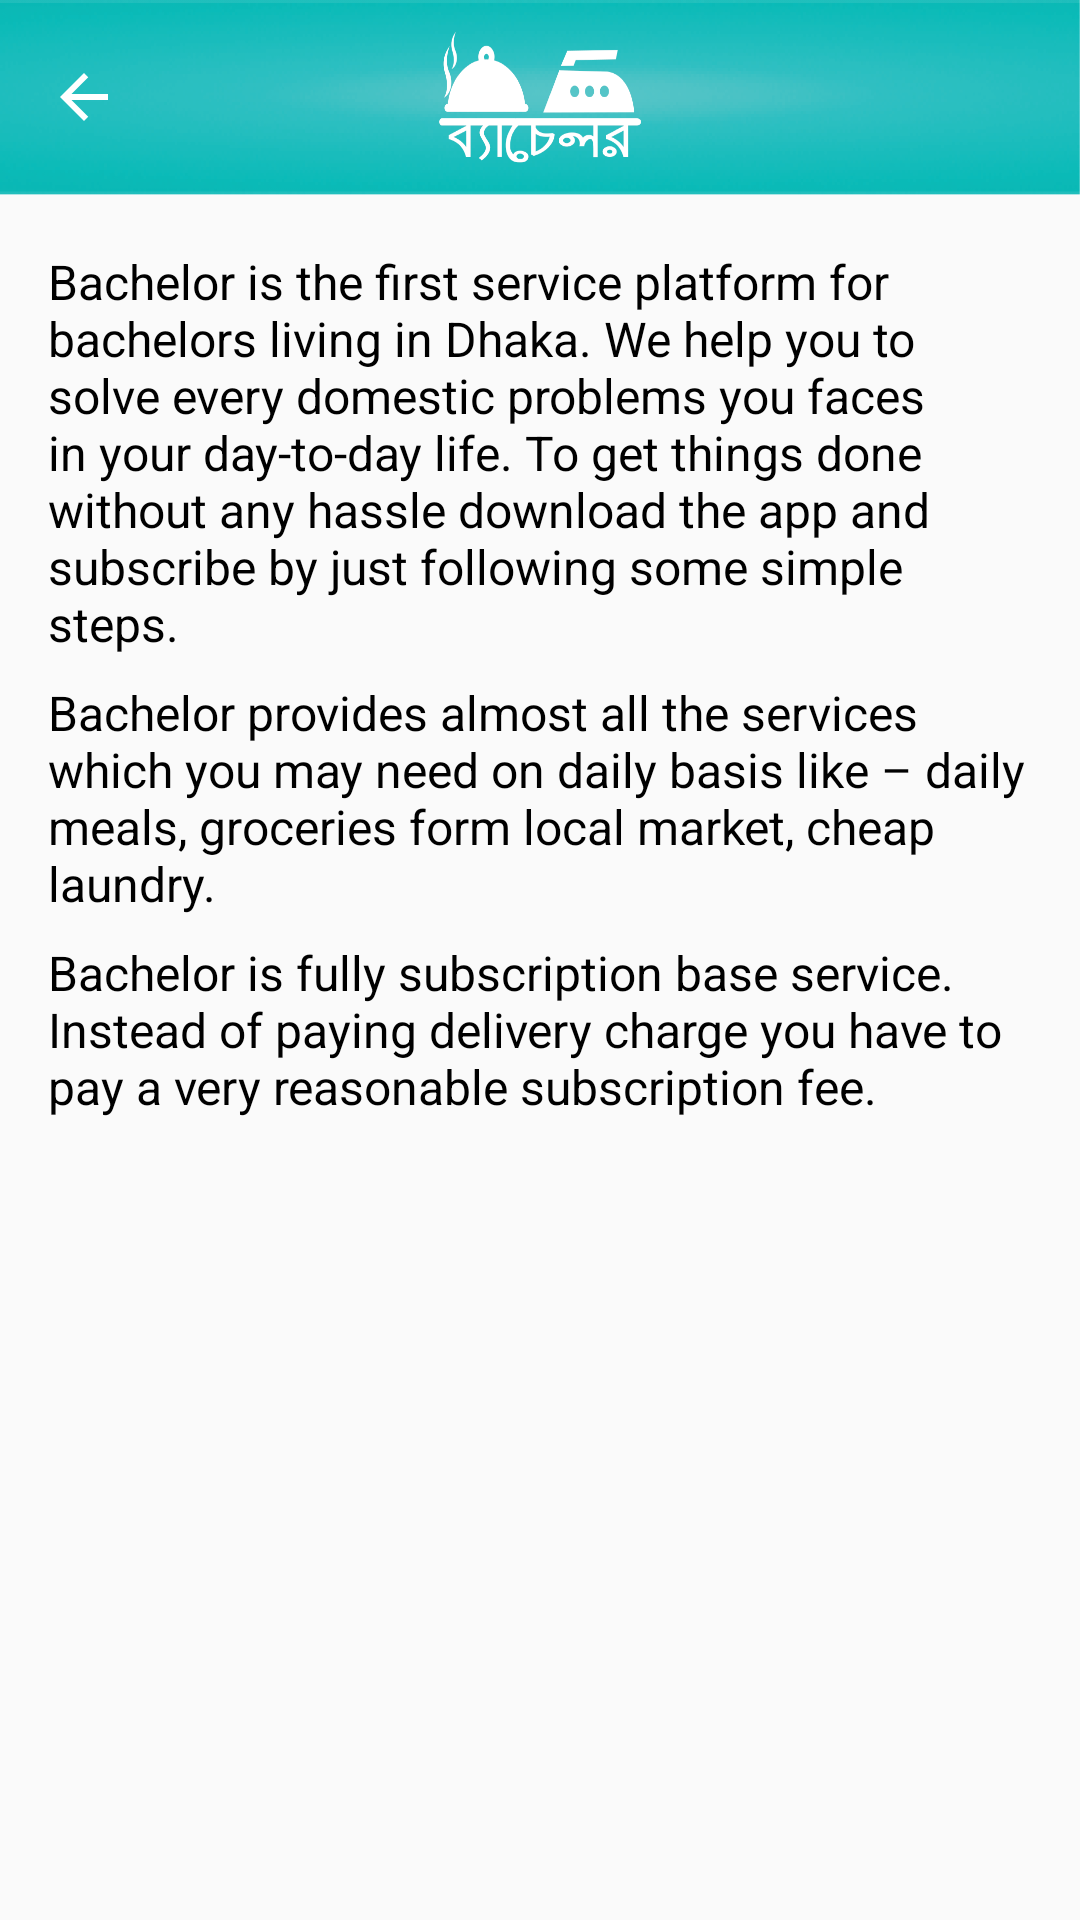

Screen size 1080 × 1920. Icon name, then its box in pixels as detection(x1, y1, x2, y2):
arrow back: detection(60, 73, 108, 121)
